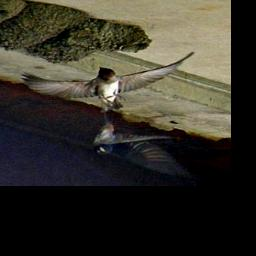Swallow: (17, 50, 198, 114)
